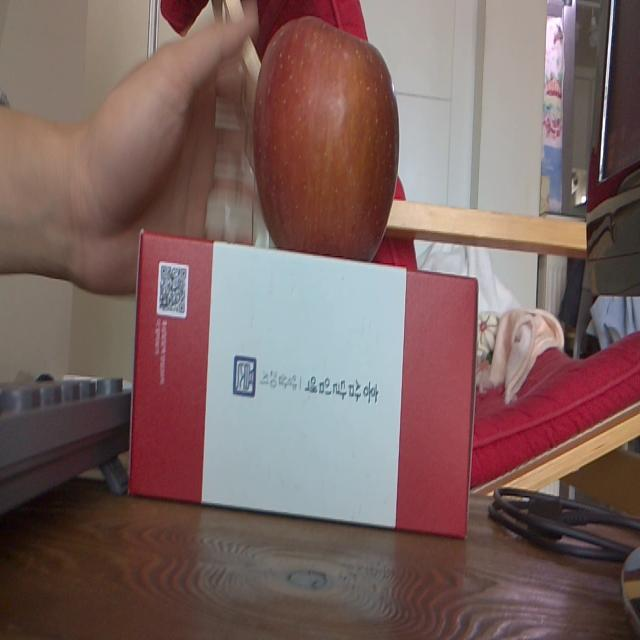apple: (249, 6, 406, 270)
